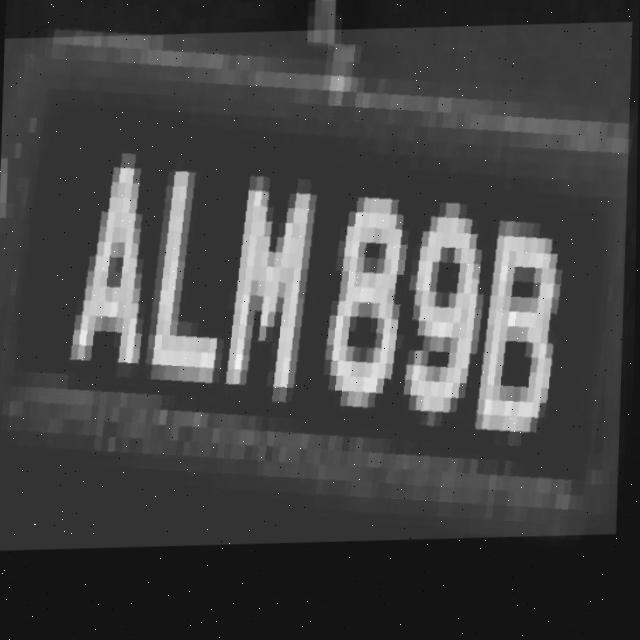LicensePlate: (0, 16, 633, 561)
